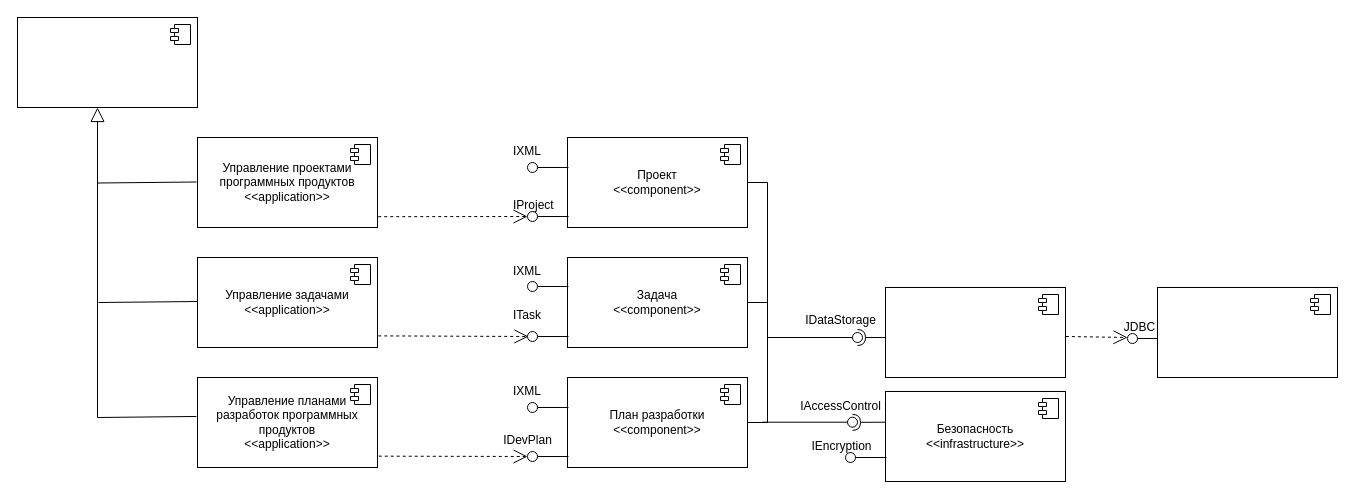
Some shapes in this 1355 by 499 pixel diagram are drawn without their labels. The centre of each missing label's shape, as x and y in pixels:
БД DigitalSolutions <<datastore>>: (x=1247, y=332)
Приложение DigitalSolutions <<framework>>: (x=107, y=62)
Хранилище <<infrastructure>>: (x=975, y=332)
